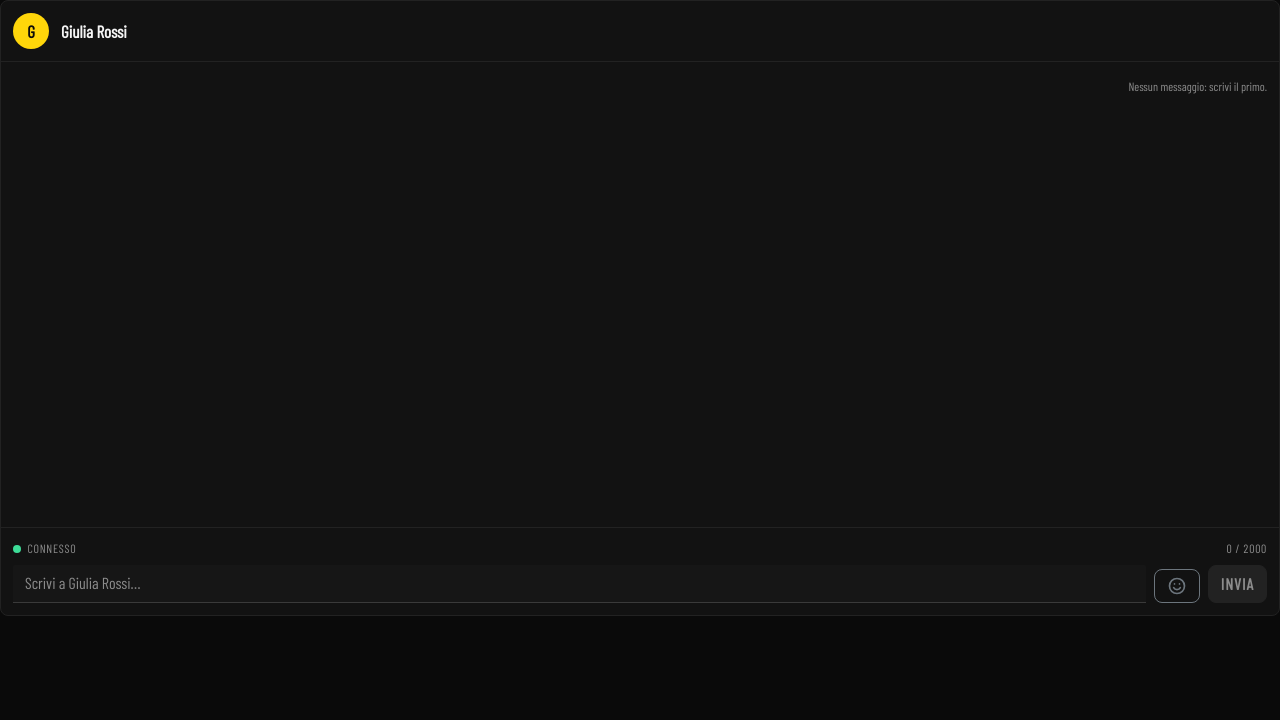
ConversationView · invio › se il client non può inviare (nessuna connessione) il testo resta nella casella con l’errore
Type "Ciao" into the text box named "Messaggio per Giulia Rossi".
click(579, 584); type("Ciao")  # box [13, 565, 1146, 603]
Then press Enter
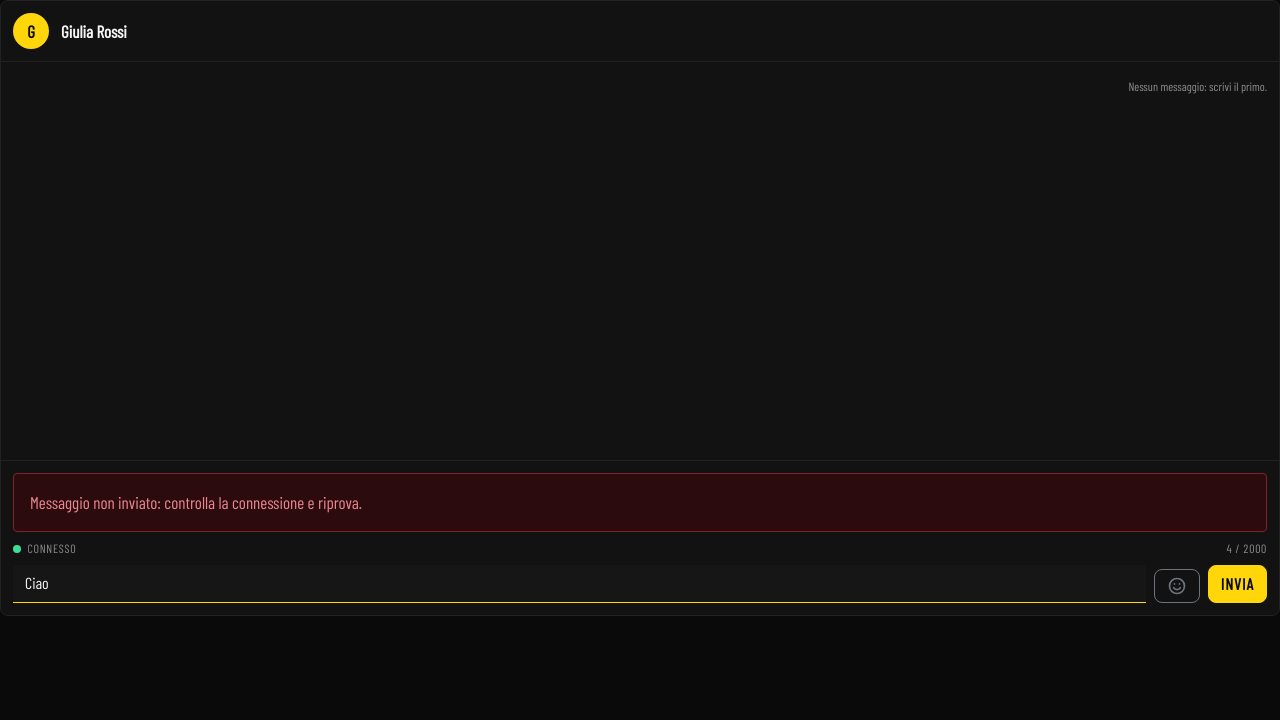
expect the message "Messaggio non inviato: controlla la connessione e riprova." is shown: met, box [13, 473, 1267, 532]
